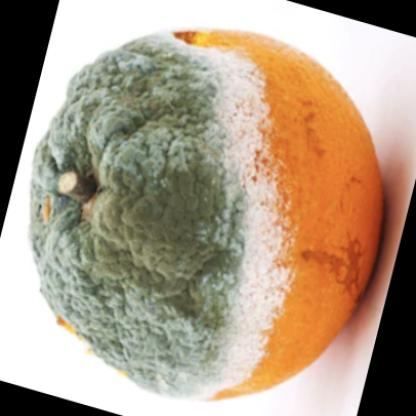rotten: (29, 31, 384, 398)
